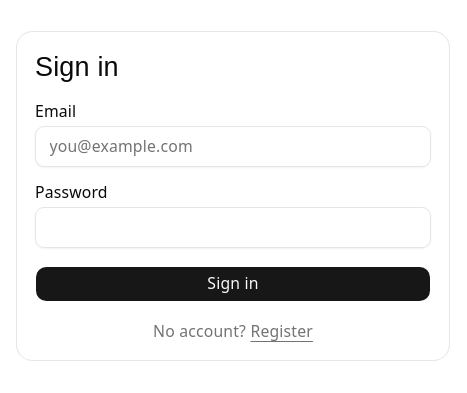
Test: LoginPage › shows validation error when email is missing
Step 1. Type "password123" into the password field labelled "Password" → (233, 227), box 35,207 -> 431,248
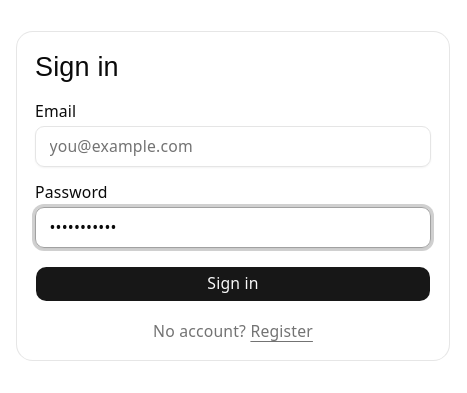
Step 2. Click the button "Sign in" → (233, 284), box 35,266 -> 431,302
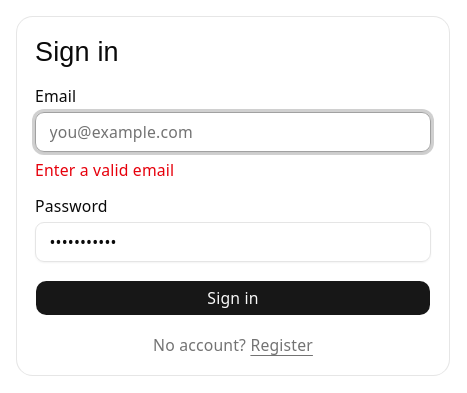
Expected: the text "Enter a valid email" is shown, 35,159 -> 174,181
